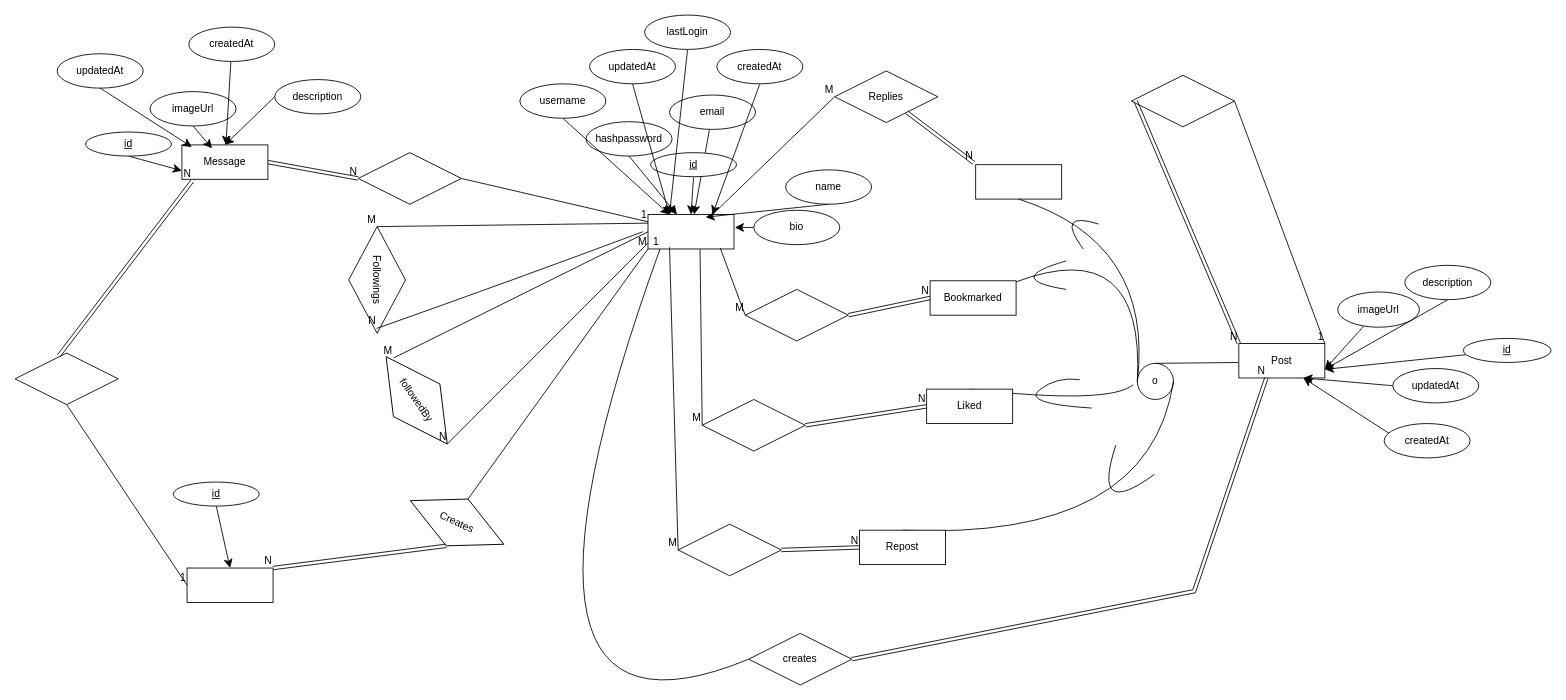
This 1566x700 diagram has some shape labels left out. The centre of each missing label's shape, as x and y in pixels:
Bookmarks: pixel 796 315
Chat: pixel 229 584
includes replies: pixel 1182 100
Likes: pixel 753 425
Relationship: pixel 66 378
Reply: pixel 1018 181
reposts: pixel 729 549
Sends: pixel 409 178
User: pixel 690 231
